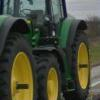Tractor: (5, 4, 100, 100)
